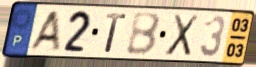2: (61, 9, 94, 55)
3: (199, 14, 225, 60)
A: (26, 9, 62, 52)
B: (125, 11, 163, 58)
T: (103, 11, 128, 54)
X: (163, 13, 201, 59)
